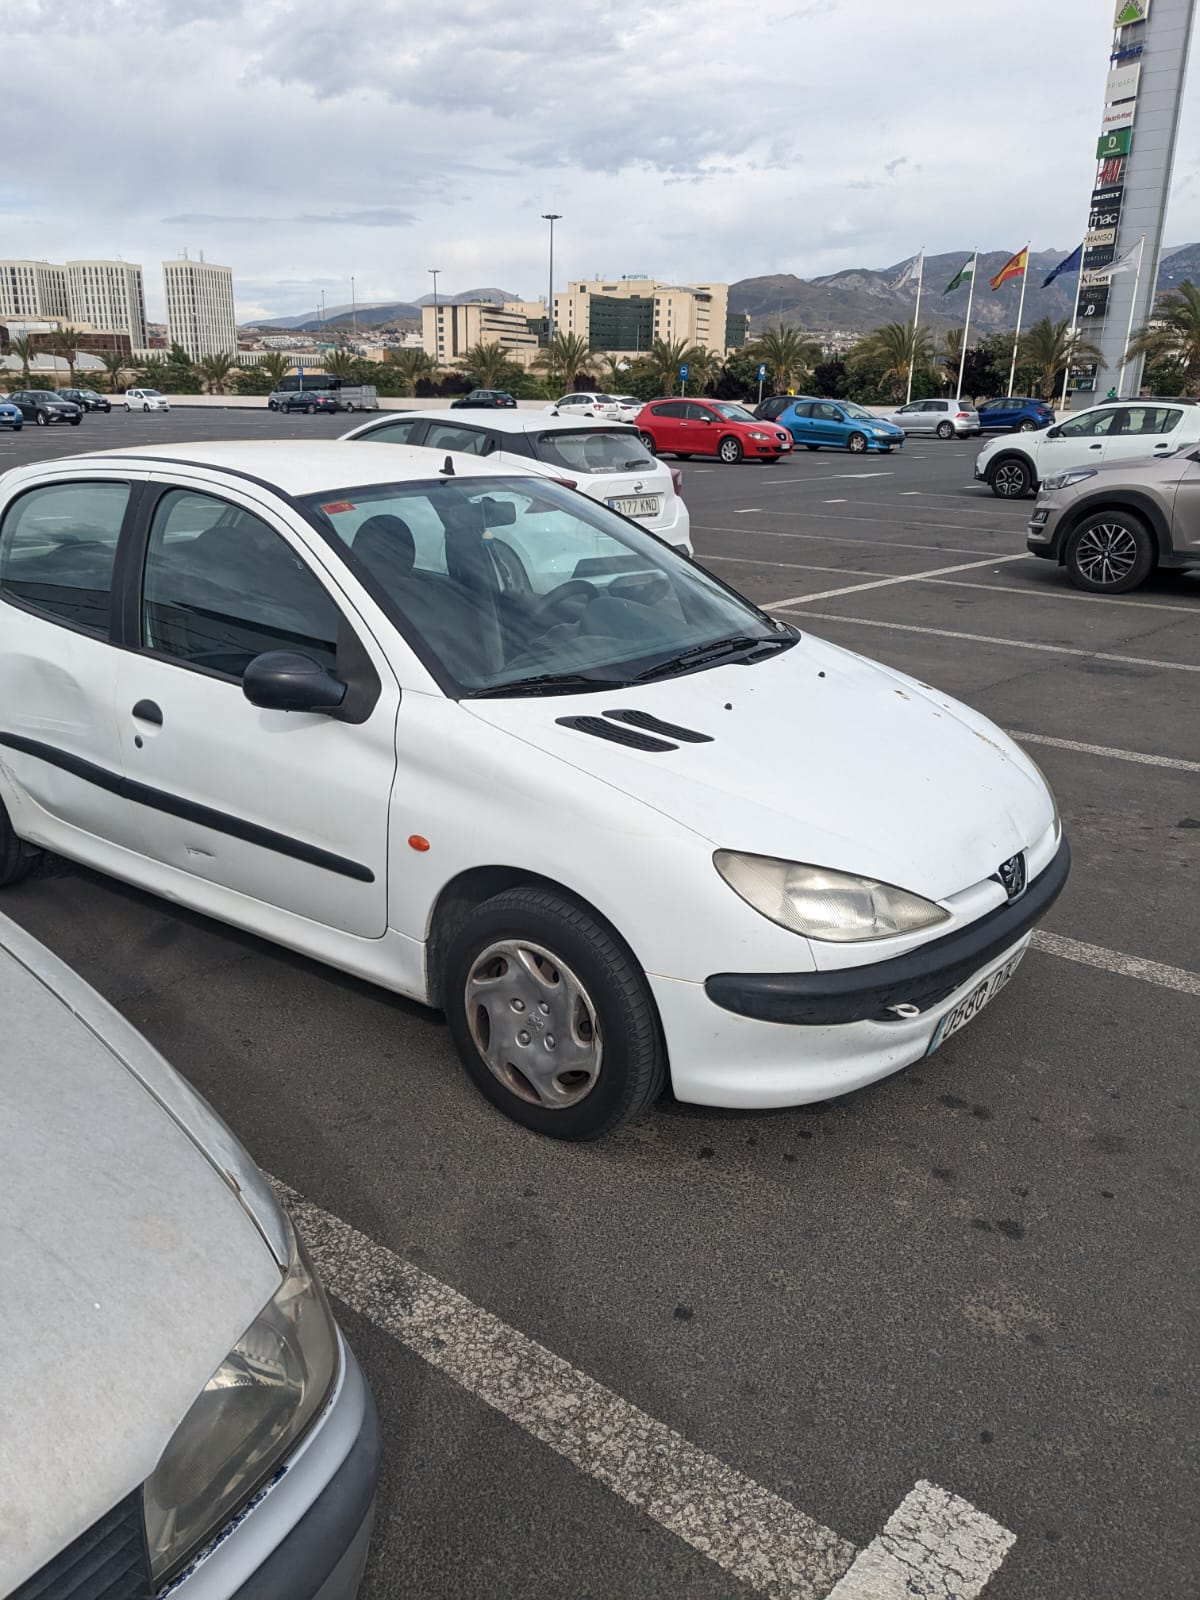car: (0, 430, 1076, 1162), (1, 900, 378, 1540), (339, 407, 703, 577), (1032, 452, 1199, 593), (998, 404, 1199, 488), (637, 391, 789, 476), (780, 388, 904, 460), (887, 388, 977, 440), (964, 393, 1044, 437), (10, 380, 82, 423), (557, 388, 620, 427), (270, 382, 340, 414), (50, 382, 115, 417), (458, 380, 518, 412), (124, 382, 175, 414)
